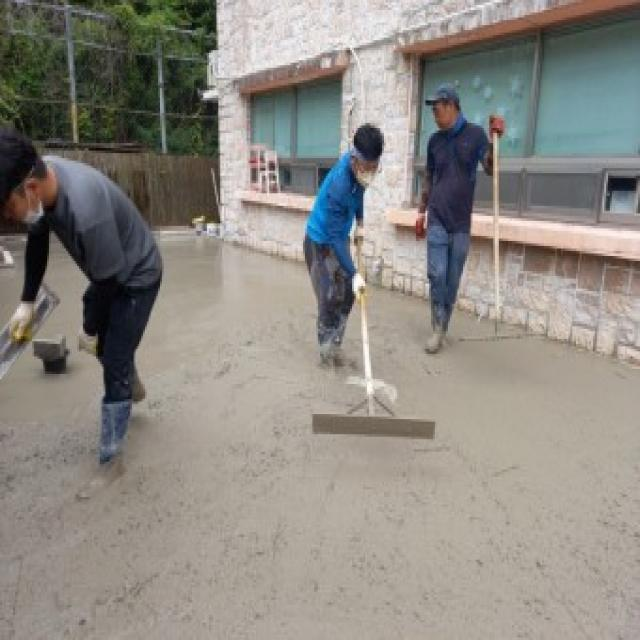Trowel: (0, 282, 60, 382)
long handle float: (312, 242, 436, 438), (458, 133, 539, 342)
rainboot: (78, 398, 134, 495), (315, 322, 340, 368), (425, 302, 446, 352)
